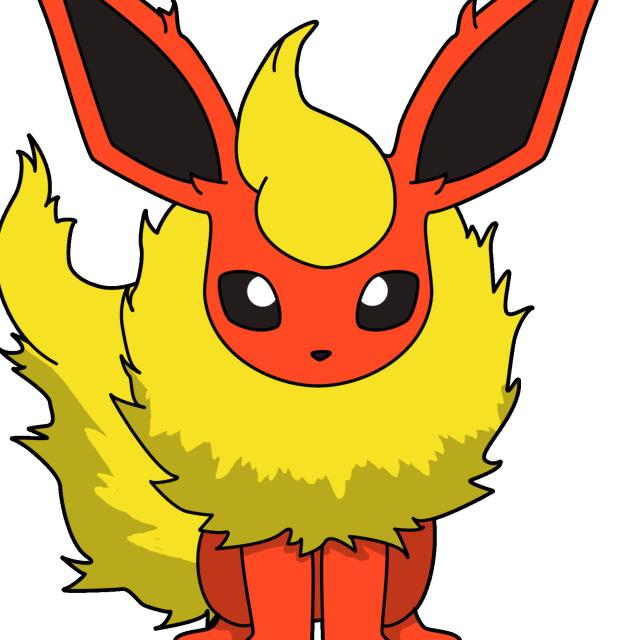Flareon: (112, 22, 530, 640)
